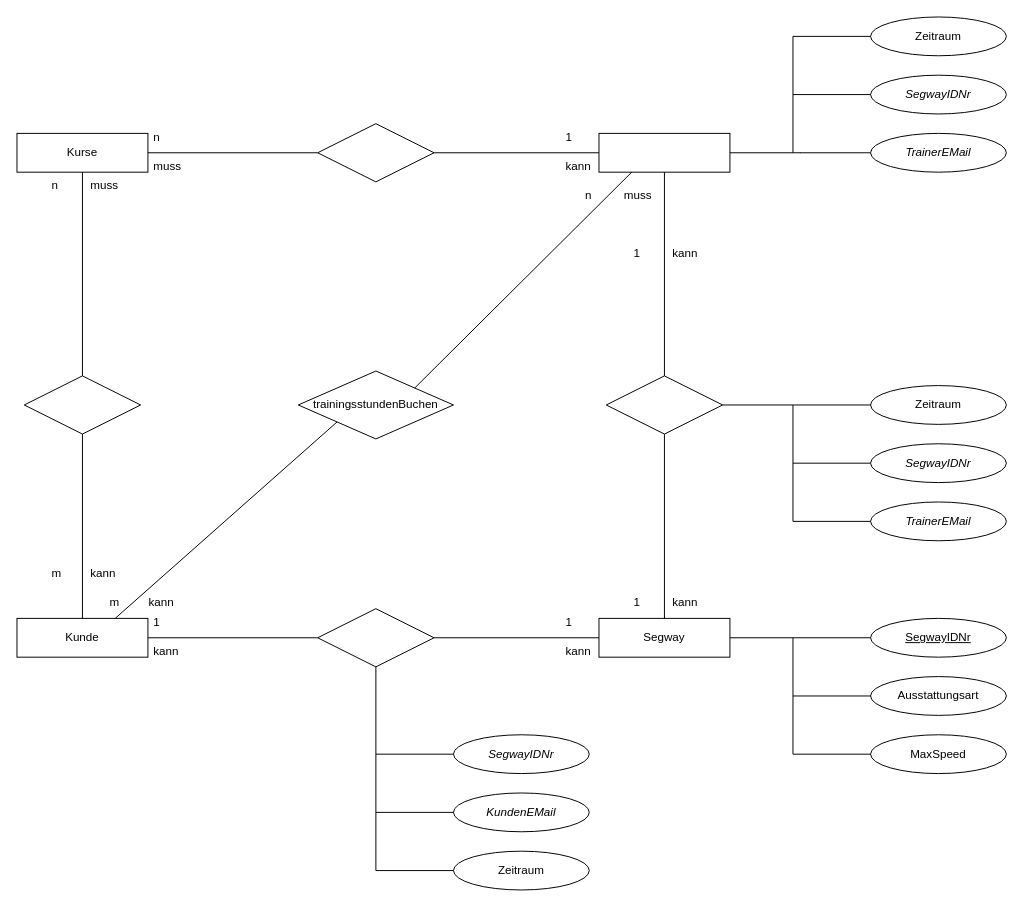
Image size: 1023x907. Some labels were removed from this diagram. The shapes that lost their labels are listed below. From the top down, each one's centre as x and y in pixels, then its label:
the point at 375,152: leitet
the point at 664,152: Trainer
the point at 82,404: nimmtTeilAn
the point at 664,404: faehrt
the point at 375,637: mietet
